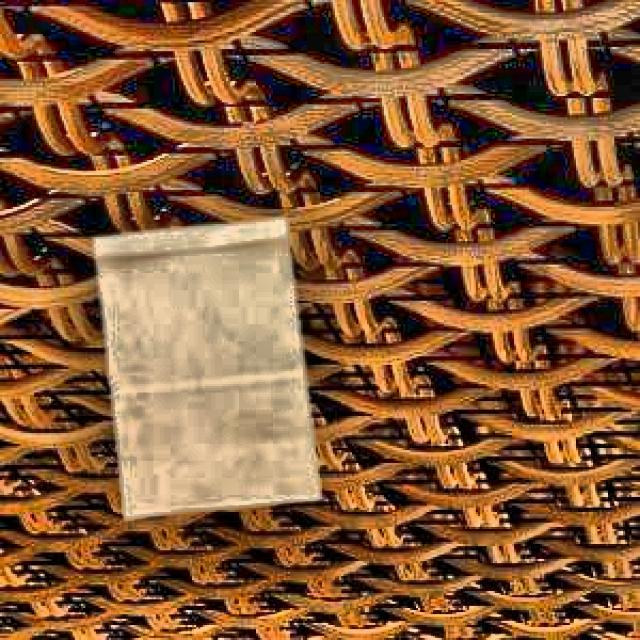Paper-bag: (82, 203, 340, 527)
